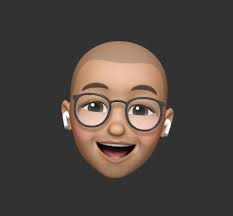earphone: (159, 106, 174, 138), (61, 100, 72, 132)
